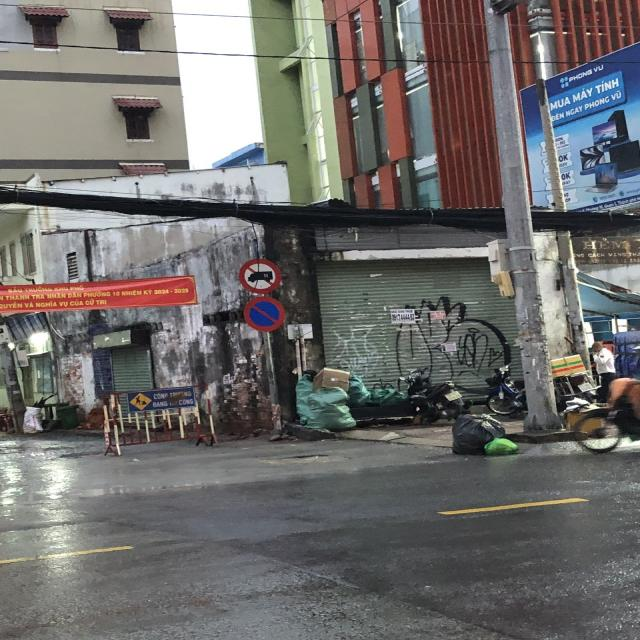Bien bao cam do xe: (240, 294, 291, 336)
Bien bao cam xe oto tai: (234, 257, 286, 295)
